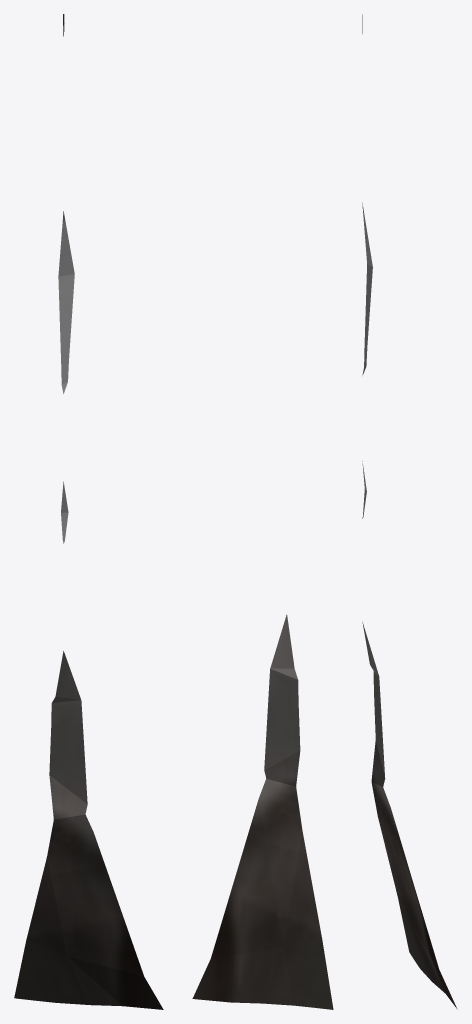
3 renders of one model, left to right at view 1: azimuth 30°, elevation 25°; view 2: azimuth 210°, elevation 25°; view 3: azimuth 330°, elevation 25°, orthographic. The views are drawn at different scales.
Size of the model in its own units: 0.0861 by 0.8374 by 0.0735.
Materials: 1 (1 with a texture image).
